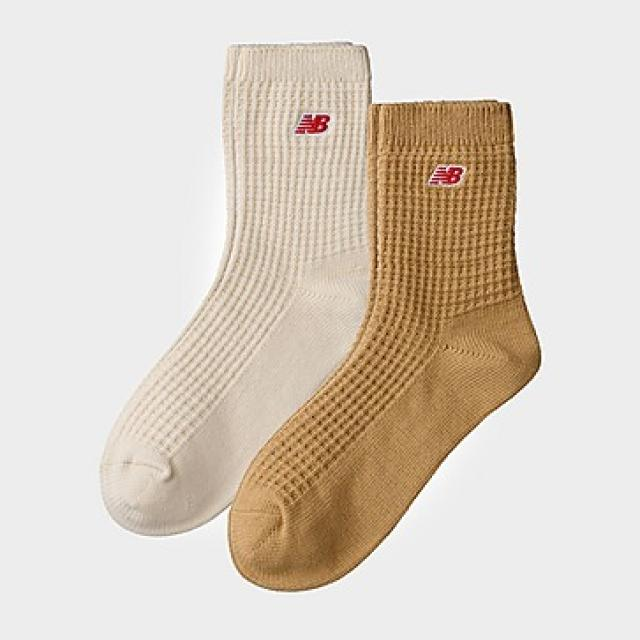sock: (226, 97, 541, 591), (99, 39, 372, 536)
